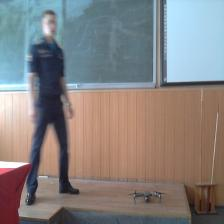drone: (127, 185, 168, 207)
